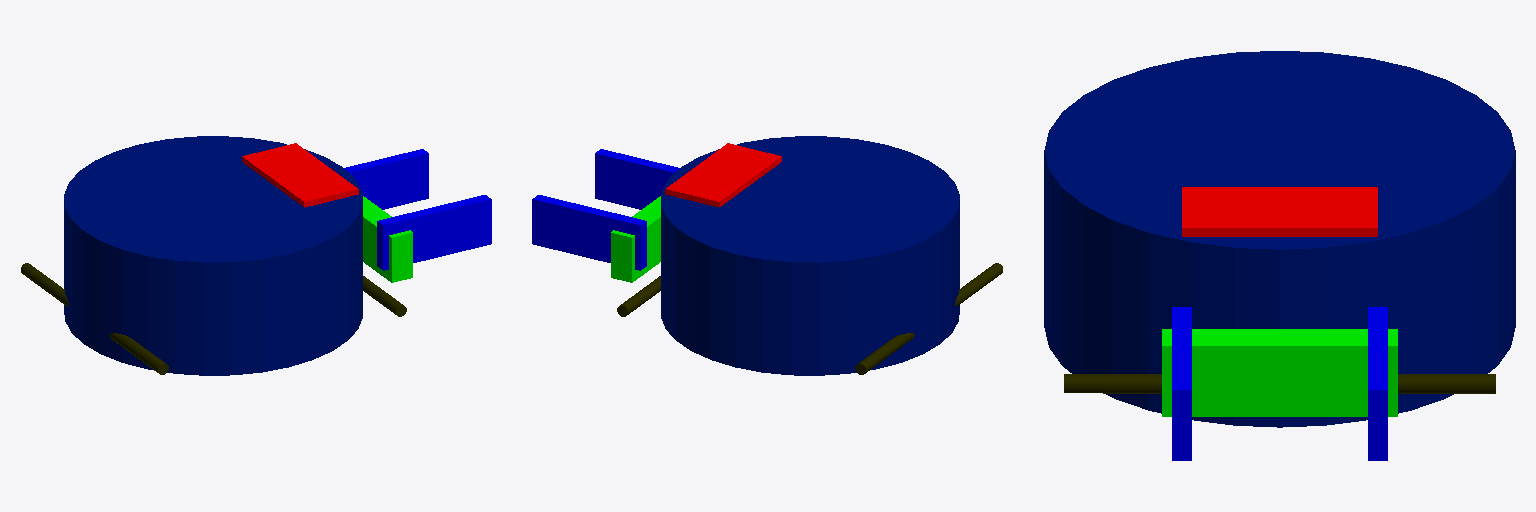
robot.urdf — Robot Mecanum Wrench:
<robot name="Robot Mecanum Wrench">
	<!-- CHASSIS LINK -->
	<link name="base_link">
		
		<inertial>
		<origin xyz="0 0 0.01" rpy="0 0 0"/>
			<mass value="1"/>
		</inertial>

		<visual name="chassis">
			<origin xyz="0 0 0.06" rpy="0 0 0"/>
			<geometry>
				<cylinder radius="0.12" length="0.1"/>
			</geometry>
			<material name="">
				<color rgba="0 0.1 0.5 1"/>
			</material>
		</visual>
		
		<visual name="front_flag">
			<origin xyz="0.08 0 0.11" rpy="0 0 0"/>
			<geometry>
				<box size="0.05 0.1 0.01"/>
			</geometry>
			<material name="">
			<color rgba="1 0 0 1"/>
			</material>
		</visual>

		<collision name="chassis">
			<origin xyz="0 0 0.06" rpy="0 0 0"/>
			<geometry>
				<cylinder radius="0.12" length="0.1"/>
			</geometry>
		</collision>

	</link>
	
	<!-- FRONT RIGHT WHEEL LINK --> 
	<link name="front_right_wheel" extends="right_mecanum_wheel">

		<inertial>
			<mass value="0.1"/>
		</inertial>
		<visual name="">
			<origin xyz="0 0.05 0" rpy="1.57 0 0"/>
			<geometry>
			<cylinder radius="0.005" length="0.1"/>
			</geometry>
			<material name="">
			<color rgba="0.2 0.2 0 1"/>
			</material>
		</visual>
	</link>
	
	<joint name="front_right_joint" type="continuous">
		<origin xyz="0.11 -0.11 0.03" rpy="0 0 0"/>
		<parent link="base_link"/>
		<child link="front_right_wheel"/>
		<axis xyz="0.0 1.0 0.0"/>
		<limit effort="100" velocity="5.0"/>
	</joint>
	
	<!-- FRONT LEFT WHEEL LINK -->
	<link name="front_left_wheel" extends="left_mecanum_wheel">
		<inertial>
			<mass value="0.1"/>
		</inertial>
		<visual name="">
			<origin xyz="0 -0.05 0" rpy="1.57 0 0"/>
			<geometry>
			<cylinder radius="0.005" length="0.1"/>
			</geometry>
			<material name="">
			<color rgba="0.2 0.2 0 1"/>
			</material>
		</visual>
	</link>
	
	<joint name="front_left_joint" type="continuous">
		<origin xyz="0.11 0.11 0.03" rpy="0 0 0"/>
		<parent link="base_link"/>
		<child link="front_left_wheel"/>
		<axis xyz="0.0 1.0 0.0"/>
		<limit effort="100" velocity="5.0"/>
	</joint>
	
	<!-- BACK RIGHT WHEEL LINK --> 
	<link name="back_right_wheel" extends="left_mecanum_wheel">
		<inertial>
			<mass value="0.1"/>
		</inertial>
		<visual name="">
			<origin xyz="0 0.05 0" rpy="1.57 0 0"/>
			<geometry>
			<cylinder radius="0.005" length="0.1"/>
			</geometry>
			<material name="">
			<color rgba="0.2 0.2 0 1"/>
			</material>
		</visual>
	</link>
	
	<joint name="back_right_joint" type="continuous">
		<origin xyz="-0.11 -0.11 0.03" rpy="0 0 0"/>
		<parent link="base_link"/>
		<child link="back_right_wheel"/>
		<axis xyz="0.0 1.0 0.0"/>
		<limit effort="100" velocity="5.0"/>
	</joint>
	
	<!-- BACK LEFT WHEEL LINK -->
	<link name="back_left_wheel" extends="right_mecanum_wheel">
		<inertial>
			<mass value="0.1"/>
		</inertial>
		<visual name="">
			<origin xyz="0 -0.05 0" rpy="1.57 0 0"/>
			<geometry>
			<cylinder radius="0.005" length="0.1"/>
			</geometry>
			<material name="">
			<color rgba="0.2 0.2 0 1"/>
			</material>
		</visual>
	</link>
	
	<joint name="back_left_joint" type="continuous">
		<origin xyz="-0.11 0.11 0.03" rpy="0 0 0"/>
		<parent link="base_link"/>
		<child link="back_left_wheel"/>
		<axis xyz="0.0 1.0 0.0"/>
		<limit effort="100" velocity="5.0"/>
	</joint>
	
	<gobotics name="control_robot" type="4_mecanum_drive">
        <front_right_wheel joint="front_right_joint"/>
        <front_left_wheel joint="front_left_joint"/>
		<back_right_wheel joint="back_right_joint"/>
        <back_left_wheel joint="back_left_joint"/>
		<max_speed value="8.0"/>
    </gobotics>
	
	<!-- ELEVATOR LINK -->
	
	<link name="elevator_link">
		
		<visual name="elevator">
			<origin xyz="0 0 0" rpy="0 0 0"/>
			<geometry>
				<box size="0.02 0.12 0.04"/>
			</geometry>
			<material name="">
			<color rgba="0 1 0 1"/>
			</material>
		</visual>

		<collision name="">
			<origin xyz="0 0 0" rpy="0 0 0"/>
			<geometry>
				<box size="0.02 0.12 0.04"/>
			</geometry>
		</collision>
		
		
		<visual name="slider">
			<origin xyz="-0.01 0 0" rpy="0 0 0"/>
			<geometry>
			<box size="0.03 0.02 0.03"/>
			</geometry>
			<material name="">
			<color rgba="0 1 0 1"/>
			</material>
		</visual>

		<collision name="">
			<origin xyz="-0.01 0 0" rpy="0 0 0"/>
			<geometry>
			<box size="0.03 0.02 0.03"/>
			</geometry>
		</collision>

		<inertial>
			<mass value="0.1"/>
		</inertial>
	</link>
	
	<joint name="elevator_joint" type="prismatic">
		<origin xyz="0.14 0 0.05" rpy="0 0 0"/>
		<parent link="base_link"/>
		<child link="elevator_link"/>
		<axis xyz="0.0 0.0 1.0"/>
		<limit lower="0.0" upper="0.1" effort="100" velocity="0.3"/>
	</joint>

	<!-- LEFT WRENCH LINK -->
	
	<link name="left_wrench_link">

		<visual name="moveable_wrench">
			<origin xyz="0.035 0 0" rpy="0 0 0"/>
			<geometry>
			<box size="0.1 0.01 0.04"/>
			</geometry>
			<material name="">
			<color rgba="0 0 1 1"/>
			</material>
		</visual>

		<collision name="">
			<origin xyz="0.035 0 0" rpy="0 0 0"/>
			<geometry>
			<box size="0.1 0.01 0.04"/>
			</geometry>
		</collision>

		<inertial>
			<mass value="0.1"/>
		</inertial>
	</link>

	<joint name="left_wrench_joint" type="revolute">
		<origin xyz="0 0.05 0.01" rpy="0 0 0"/>
		<parent link="elevator_link"/>
		<child link="left_wrench_link"/>
		<axis xyz="0.0 0.0 1.0"/>
		<limit lower="-1.57" upper="0" effort="10.0" velocity="1.0"/>
	</joint>
	
	<!-- RIGHT WRENCH LINK -->
	
	<link name="right_wrench_link">

		<visual name="moveable_wrench">
			<origin xyz="0.035 0 0" rpy="0 0 0"/>
			<geometry>
			<box size="0.1 0.01 0.04"/>
			</geometry>
			<material name="">
			<color rgba="0 0 1 1"/>
			</material>
		</visual>

		<collision name="">
			<origin xyz="0.035 0 0" rpy="0 0 0"/>
			<geometry>
			<box size="0.1 0.01 0.04"/>
			</geometry>
		</collision>

		<inertial>
			<mass value="0.1"/>
		</inertial>
	</link>

	<joint name="right_wrench_joint" type="revolute">
		<origin xyz="0 -0.05 0.01" rpy="0 0 0"/>
		<parent link="elevator_link"/>
		<child link="right_wrench_link"/>
		<axis xyz="0.0 0.0 1.0"/>
		<limit lower="0" upper="1.57" effort="10.0" velocity="1.0"/>
	</joint>
	
	<gobotics name="control_wrench" type="grouped_joints">
		<input name="wrench_in" lower="0" upper="1"/>
		<output joint="left_wrench_joint" factor="-0.5"/>
		<output joint="right_wrench_joint" factor="0.5"/>
    </gobotics>
	
</robot>

--- Facts derived from the render (not from the file) ---
The picture shows the robot from 3 angles, left to right: view 1: azimuth 30°, elevation 25°; view 2: azimuth 150°, elevation 25°; view 3: azimuth 270°, elevation 25°; orthographic projection.
Robot: Robot Mecanum Wrench — 8 links, 7 joints (2 revolute, 4 continuous, 1 prismatic); root link base_link; default pose: every joint at zero.
Visible links, largest first — view 1: base_link, right_wrench_link, left_wrench_link, elevator_link, back_right_wheel, back_left_wheel, front_right_wheel; view 2: base_link, left_wrench_link, right_wrench_link, elevator_link, back_left_wheel, back_right_wheel, front_left_wheel; view 3: base_link, elevator_link, left_wrench_link, right_wrench_link, front_left_wheel, front_right_wheel.
Boxes of the visible links, <box> form: base_link: <box>64,136,362,375</box>; right_wrench_link: <box>377,195,491,270</box>; left_wrench_link: <box>344,149,428,209</box>; elevator_link: <box>363,196,412,282</box>; back_right_wheel: <box>109,333,168,374</box>; back_left_wheel: <box>21,263,68,306</box>; front_right_wheel: <box>363,276,406,316</box>; base_link: <box>661,136,959,375</box>; left_wrench_link: <box>532,195,646,270</box>; right_wrench_link: <box>595,149,679,209</box>; elevator_link: <box>611,196,660,282</box>; back_left_wheel: <box>855,333,914,374</box>; back_right_wheel: <box>955,263,1002,306</box>; front_left_wheel: <box>617,276,660,316</box>; base_link: <box>1044,51,1515,427</box>; elevator_link: <box>1162,329,1397,416</box>; left_wrench_link: <box>1368,307,1387,460</box>; right_wrench_link: <box>1172,307,1191,460</box>; front_left_wheel: <box>1398,374,1495,393</box>; front_right_wheel: <box>1064,374,1161,393</box>.
Size in the robot's own frame: 0.345 by 0.24 by 0.105 metres.
Geometry: primitives only (box / cylinder / sphere), no mesh files.